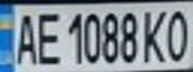0: (81, 8, 103, 65)
1: (63, 8, 84, 65)
8: (118, 7, 142, 64), (100, 8, 121, 64)
A: (9, 8, 39, 66)
E: (33, 7, 63, 66)
K: (139, 6, 169, 64)
O: (163, 4, 193, 63)
